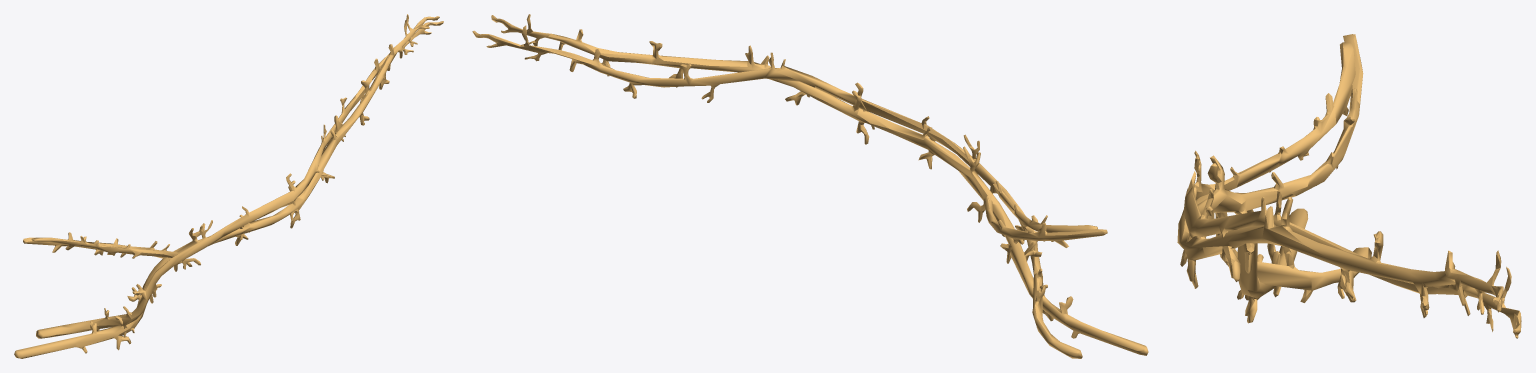
File: ducto-pancreatico.glb
3 renders of one model, left to right at view 1: azimuth 30°, elevation 25°; view 2: azimuth 150°, elevation 25°; view 3: azimuth 270°, elevation 25°, orthographic. The views are drawn at different scales.
Visible parts, largest first — view 1: ducto-pancreatico; view 2: ducto-pancreatico; view 3: ducto-pancreatico.
Part boxes in pixels (left/top/right/bottom): ducto-pancreatico: left=14, top=14, right=443, bottom=358; ducto-pancreatico: left=472, top=14, right=1148, bottom=358; ducto-pancreatico: left=1177, top=34, right=1521, bottom=338.
Size of the model in its own units: 0.1182 by 0.0484 by 0.0364.
